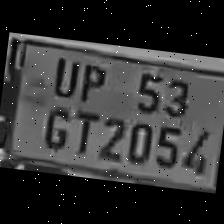0: (122, 111, 156, 164)
2: (92, 110, 128, 162)
3: (159, 69, 192, 118)
4: (177, 120, 212, 174)
5: (130, 62, 166, 114), (150, 115, 184, 169)
G: (38, 98, 74, 150)
P: (73, 54, 109, 102)
T: (66, 104, 99, 155)
U: (45, 50, 79, 98)
